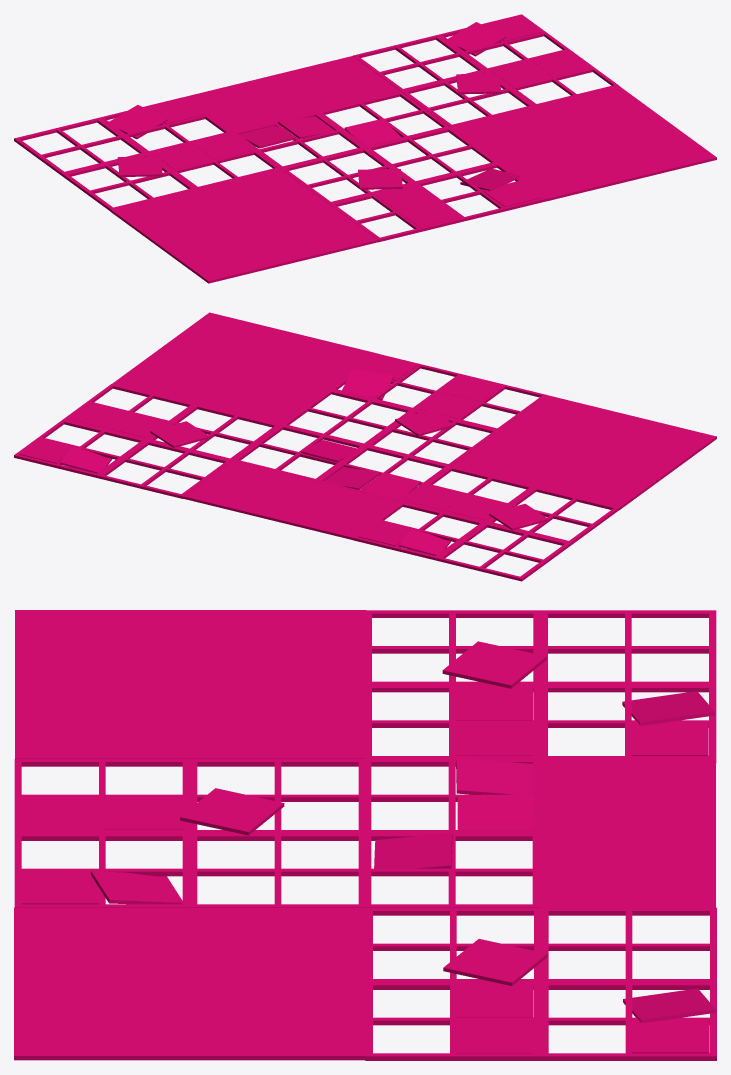
The model's file is W_01_DCeiling_02.fbx.
3 renders of one model, top to bottom at view 1: azimuth 30°, elevation 25°; view 2: azimuth 150°, elevation 25°; view 3: azimuth 270°, elevation 25°, orthographic. The views are drawn at different scales.
Visible parts, largest first — view 1: W_01_DCeiling_02; view 2: W_01_DCeiling_02; view 3: W_01_DCeiling_02.
Boxes of the visible parts, box(x1,y1,x2,y2) form: W_01_DCeiling_02: box(14, 14, 716, 283); W_01_DCeiling_02: box(14, 312, 716, 581); W_01_DCeiling_02: box(14, 610, 716, 1060).
Bounding box in the file's own units: 901 × 15.95 × 600.
